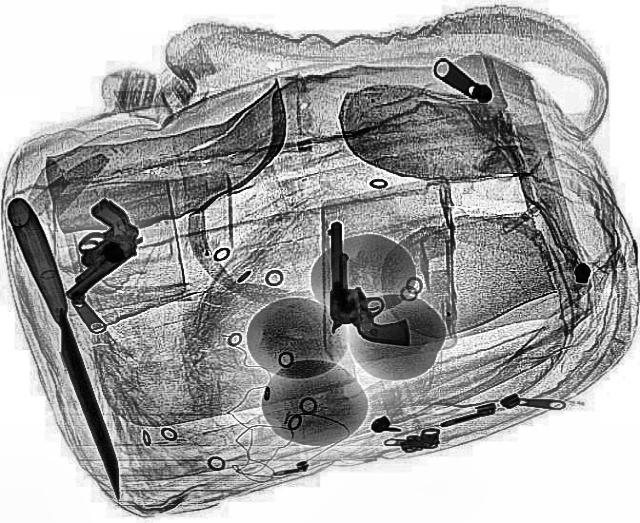Gun: (20, 196, 160, 302), (324, 220, 406, 348)
Knife: (2, 196, 134, 498)
